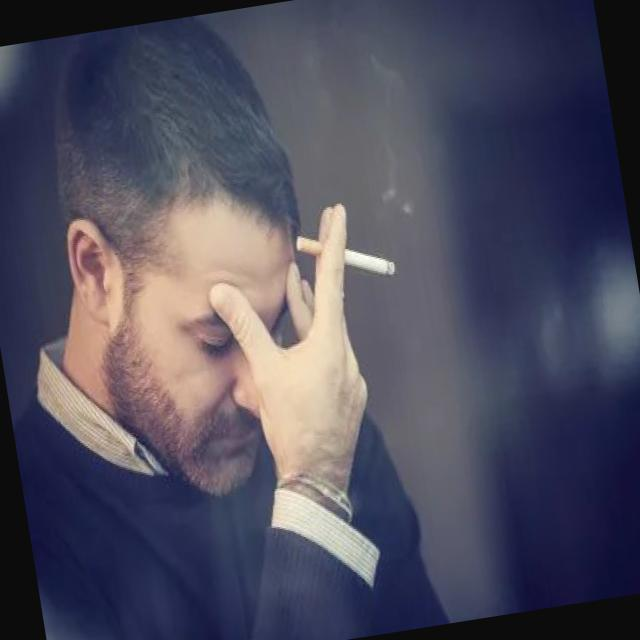smoke: (294, 215, 404, 296)
